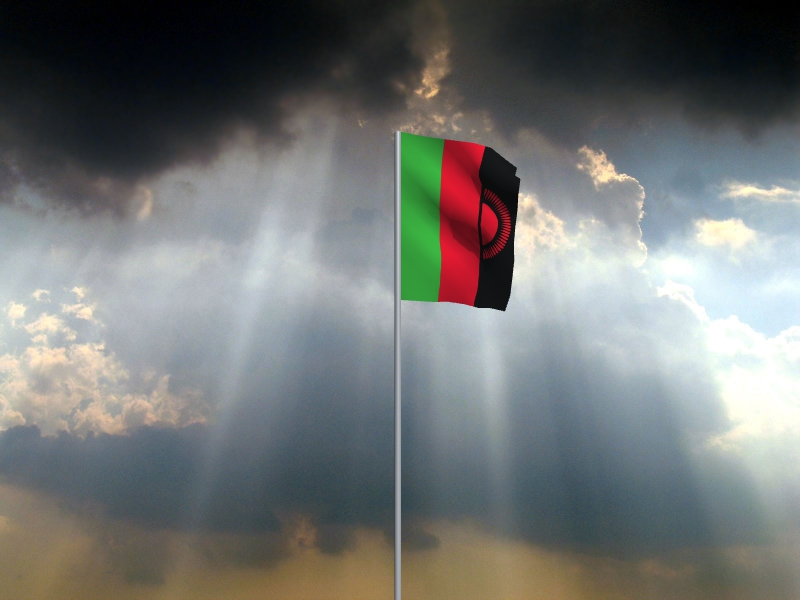mw: (402, 133, 522, 313)
